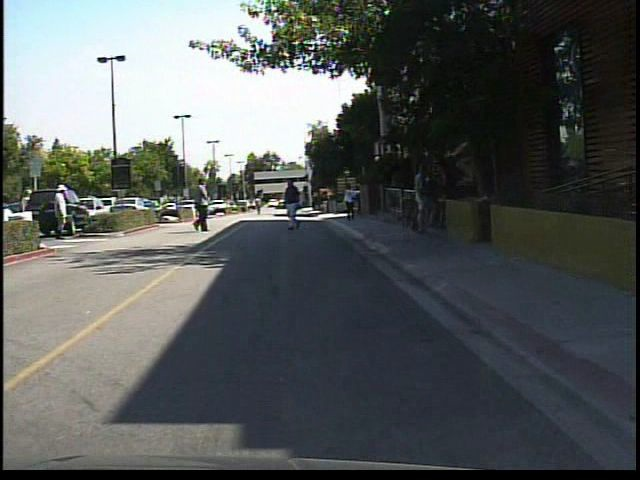person: (408, 152, 439, 240), (187, 172, 215, 235), (430, 164, 453, 237), (280, 175, 308, 233), (52, 180, 77, 242), (19, 183, 40, 239), (339, 179, 359, 227), (191, 190, 207, 220), (252, 193, 268, 216)
